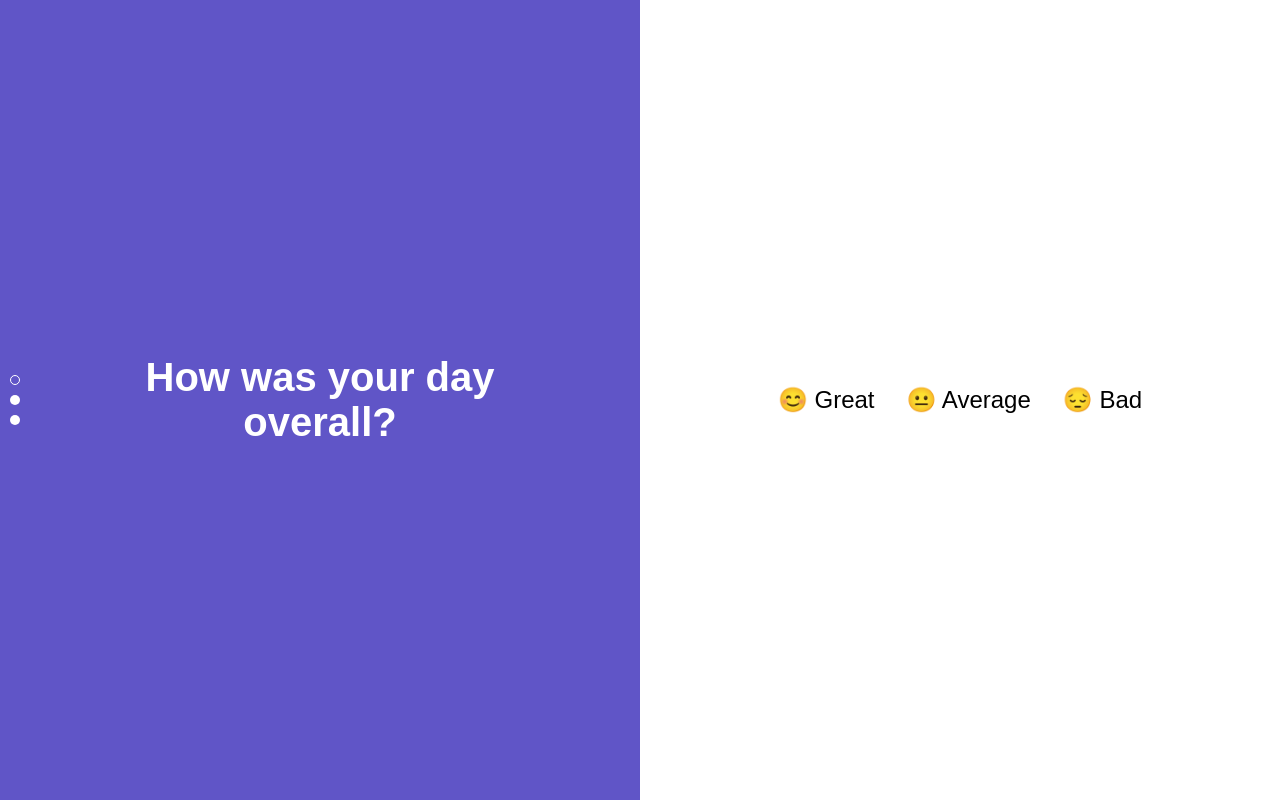
it: Carousel Component › handles invalid step index gracefully
This screenshot has width=1280, height=800.
Click the 3rd button with class "navigation_btn_dot" at (15, 420), box [10,415,20,425]
(page scrolled)
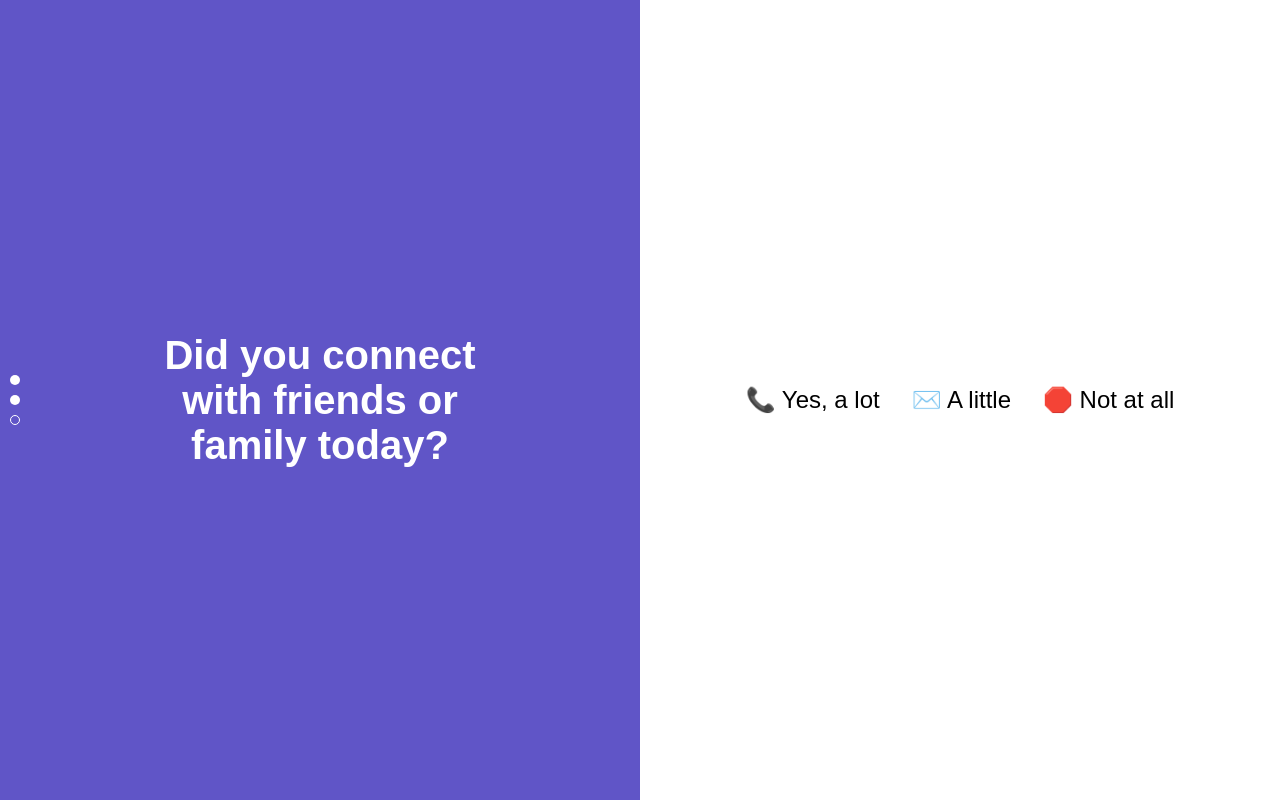
Result: the heading "Did you connect with friends or family today?" is shown at [164,332,476,466]
